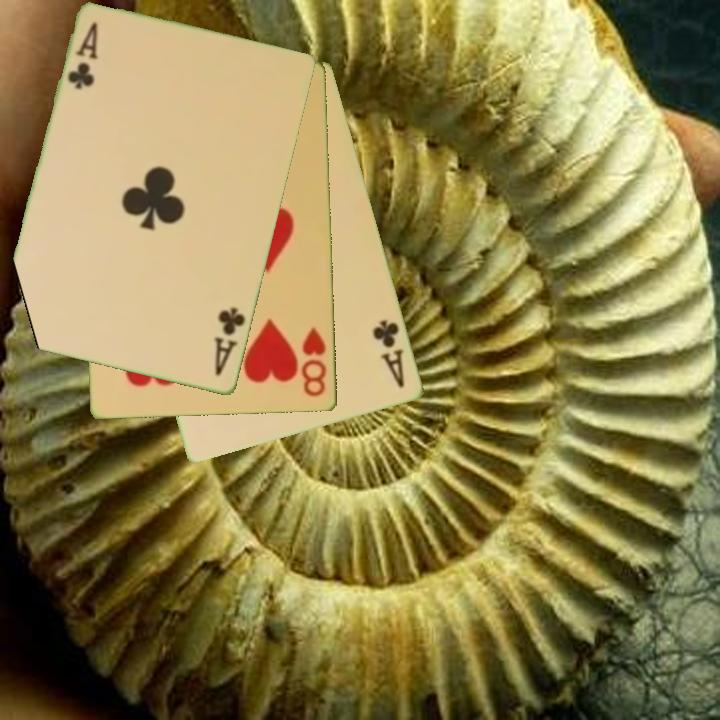8h: (298, 324, 329, 399)
Ac: (210, 304, 249, 380), (369, 316, 408, 391), (64, 19, 102, 93)
